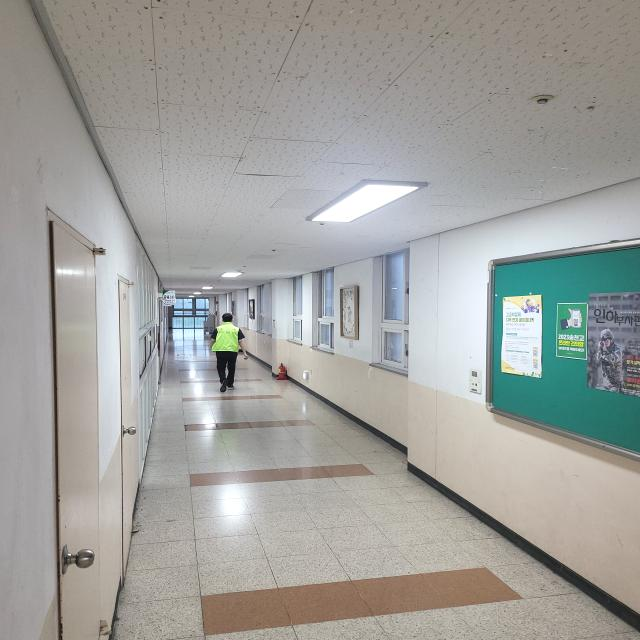weston_spy: (210, 316, 248, 362)
